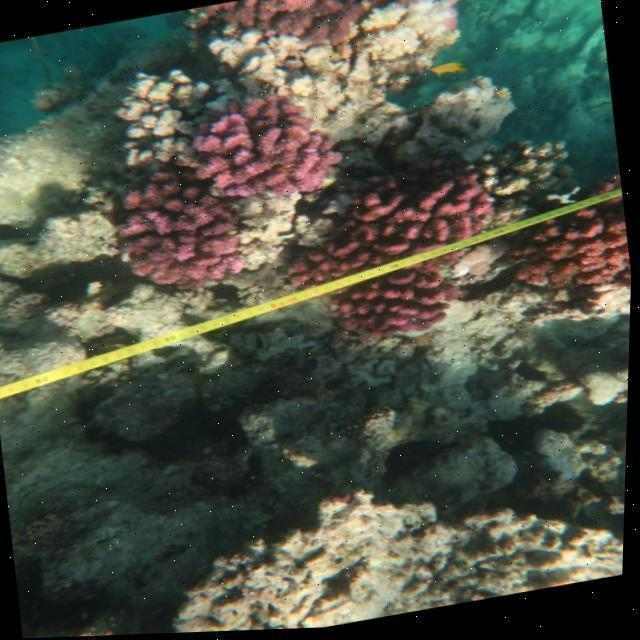Bleached Coral: (349, 0, 478, 83)
Healthy Coral: (267, 163, 524, 357), (107, 162, 253, 301), (512, 176, 636, 334), (205, 79, 341, 214), (177, 0, 365, 69)
